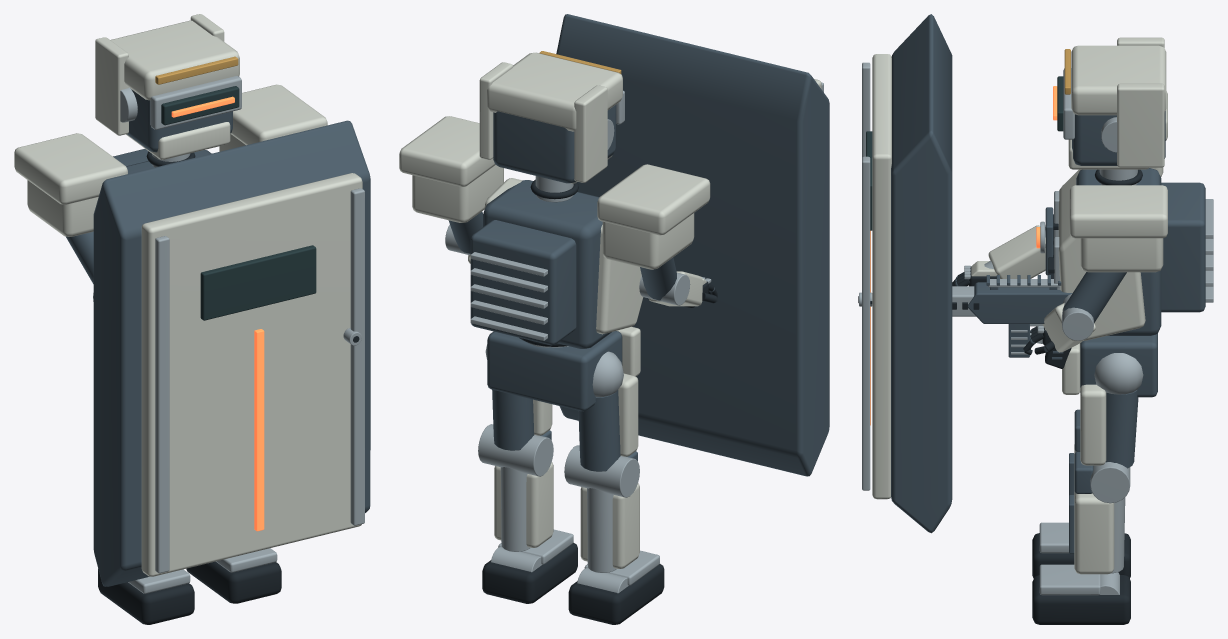
The model's file is robot-commander-v04.glb.
The picture shows the model from 3 angles, left to right: view 1: azimuth 30°, elevation 25°; view 2: azimuth 150°, elevation 25°; view 3: azimuth 270°, elevation 25°; orthographic projection.
Parts seen in each view (by area): view 1: shield_visual / Ceramic, shield_visual / Cerakote midnight, head / Ceramic, shield_visual / Titanium, robot-commander-v04 / Ceramic, shield_visual / Optical glass, shin_L / Elastomer, shin_R / Elastomer, shield_visual / Hostile optics, arm_L / Ceramic, head / Titanium, head / Cerakote midnight (+6 smaller); view 2: shield_visual / Cerakote midnight, torso / Cerakote midnight, head / Ceramic, robot-commander-v04 / Ceramic, hips / Cerakote midnight, head / Cerakote midnight, shin_R / Titanium, shin_L / Titanium, torso / Ceramic, torso / Titanium, arm_R / Ceramic, arm_L / Ceramic (+16 smaller); view 3: shield_visual / Cerakote midnight, head / Ceramic, shield_visual / Ceramic, torso / Cerakote midnight, robot-commander-v04 / Ceramic, torso / Ceramic, shield_visual / Titanium, integrated_enemy_weapon / Cerakote midnight, shin_R / Elastomer, shin_R / Ceramic, shin_R / Titanium, arm_R / Ceramic (+19 smaller).
Part boxes in pixels (<box>): shield_visual / Ceramic: <box>141,173,362,576</box>; shield_visual / Cerakote midnight: <box>93,120,370,586</box>; head / Ceramic: <box>95,14,239,159</box>; shield_visual / Titanium: <box>155,188,364,573</box>; robot-commander-v04 / Ceramic: <box>14,84,327,204</box>; shield_visual / Optical glass: <box>200,245,316,320</box>; shin_L / Elastomer: <box>98,569,194,624</box>; shin_R / Elastomer: <box>186,561,281,603</box>; shield_visual / Hostile optics: <box>254,329,264,531</box>; arm_L / Ceramic: <box>27,180,98,236</box>; head / Titanium: <box>120,76,241,129</box>; head / Cerakote midnight: <box>127,89,232,152</box>; shield_visual / Cerakote midnight: <box>556,14,829,476</box>; torso / Cerakote midnight: <box>470,180,611,348</box>; head / Ceramic: <box>479,52,622,183</box>; robot-commander-v04 / Ceramic: <box>399,116,710,235</box>; hips / Cerakote midnight: <box>487,331,622,411</box>; head / Cerakote midnight: <box>493,104,616,183</box>; shin_R / Titanium: <box>491,467,573,572</box>; shin_L / Titanium: <box>577,488,659,593</box>; torso / Ceramic: <box>484,178,643,334</box>; torso / Titanium: <box>470,252,547,340</box>; arm_R / Ceramic: <box>412,165,503,222</box>; arm_L / Ceramic: <box>602,213,694,269</box>; shield_visual / Cerakote midnight: <box>891,14,952,533</box>; head / Ceramic: <box>1068,37,1166,169</box>; shield_visual / Ceramic: <box>872,54,891,499</box>; torso / Cerakote midnight: <box>1045,168,1205,335</box>; robot-commander-v04 / Ceramic: <box>1069,91,1167,238</box>; torso / Ceramic: <box>1058,169,1145,340</box>; shield_visual / Titanium: <box>862,62,870,490</box>; integrated_enemy_weapon / Cerakote midnight: <box>968,275,1072,323</box>; shin_R / Elastomer: <box>1032,574,1130,624</box>; shin_R / Ceramic: <box>1074,486,1114,574</box>; shin_R / Titanium: <box>1039,497,1125,595</box>; arm_R / Ceramic: <box>1080,238,1163,272</box>.
Size of the model in its own units: 1 by 1.72 by 1.04.
